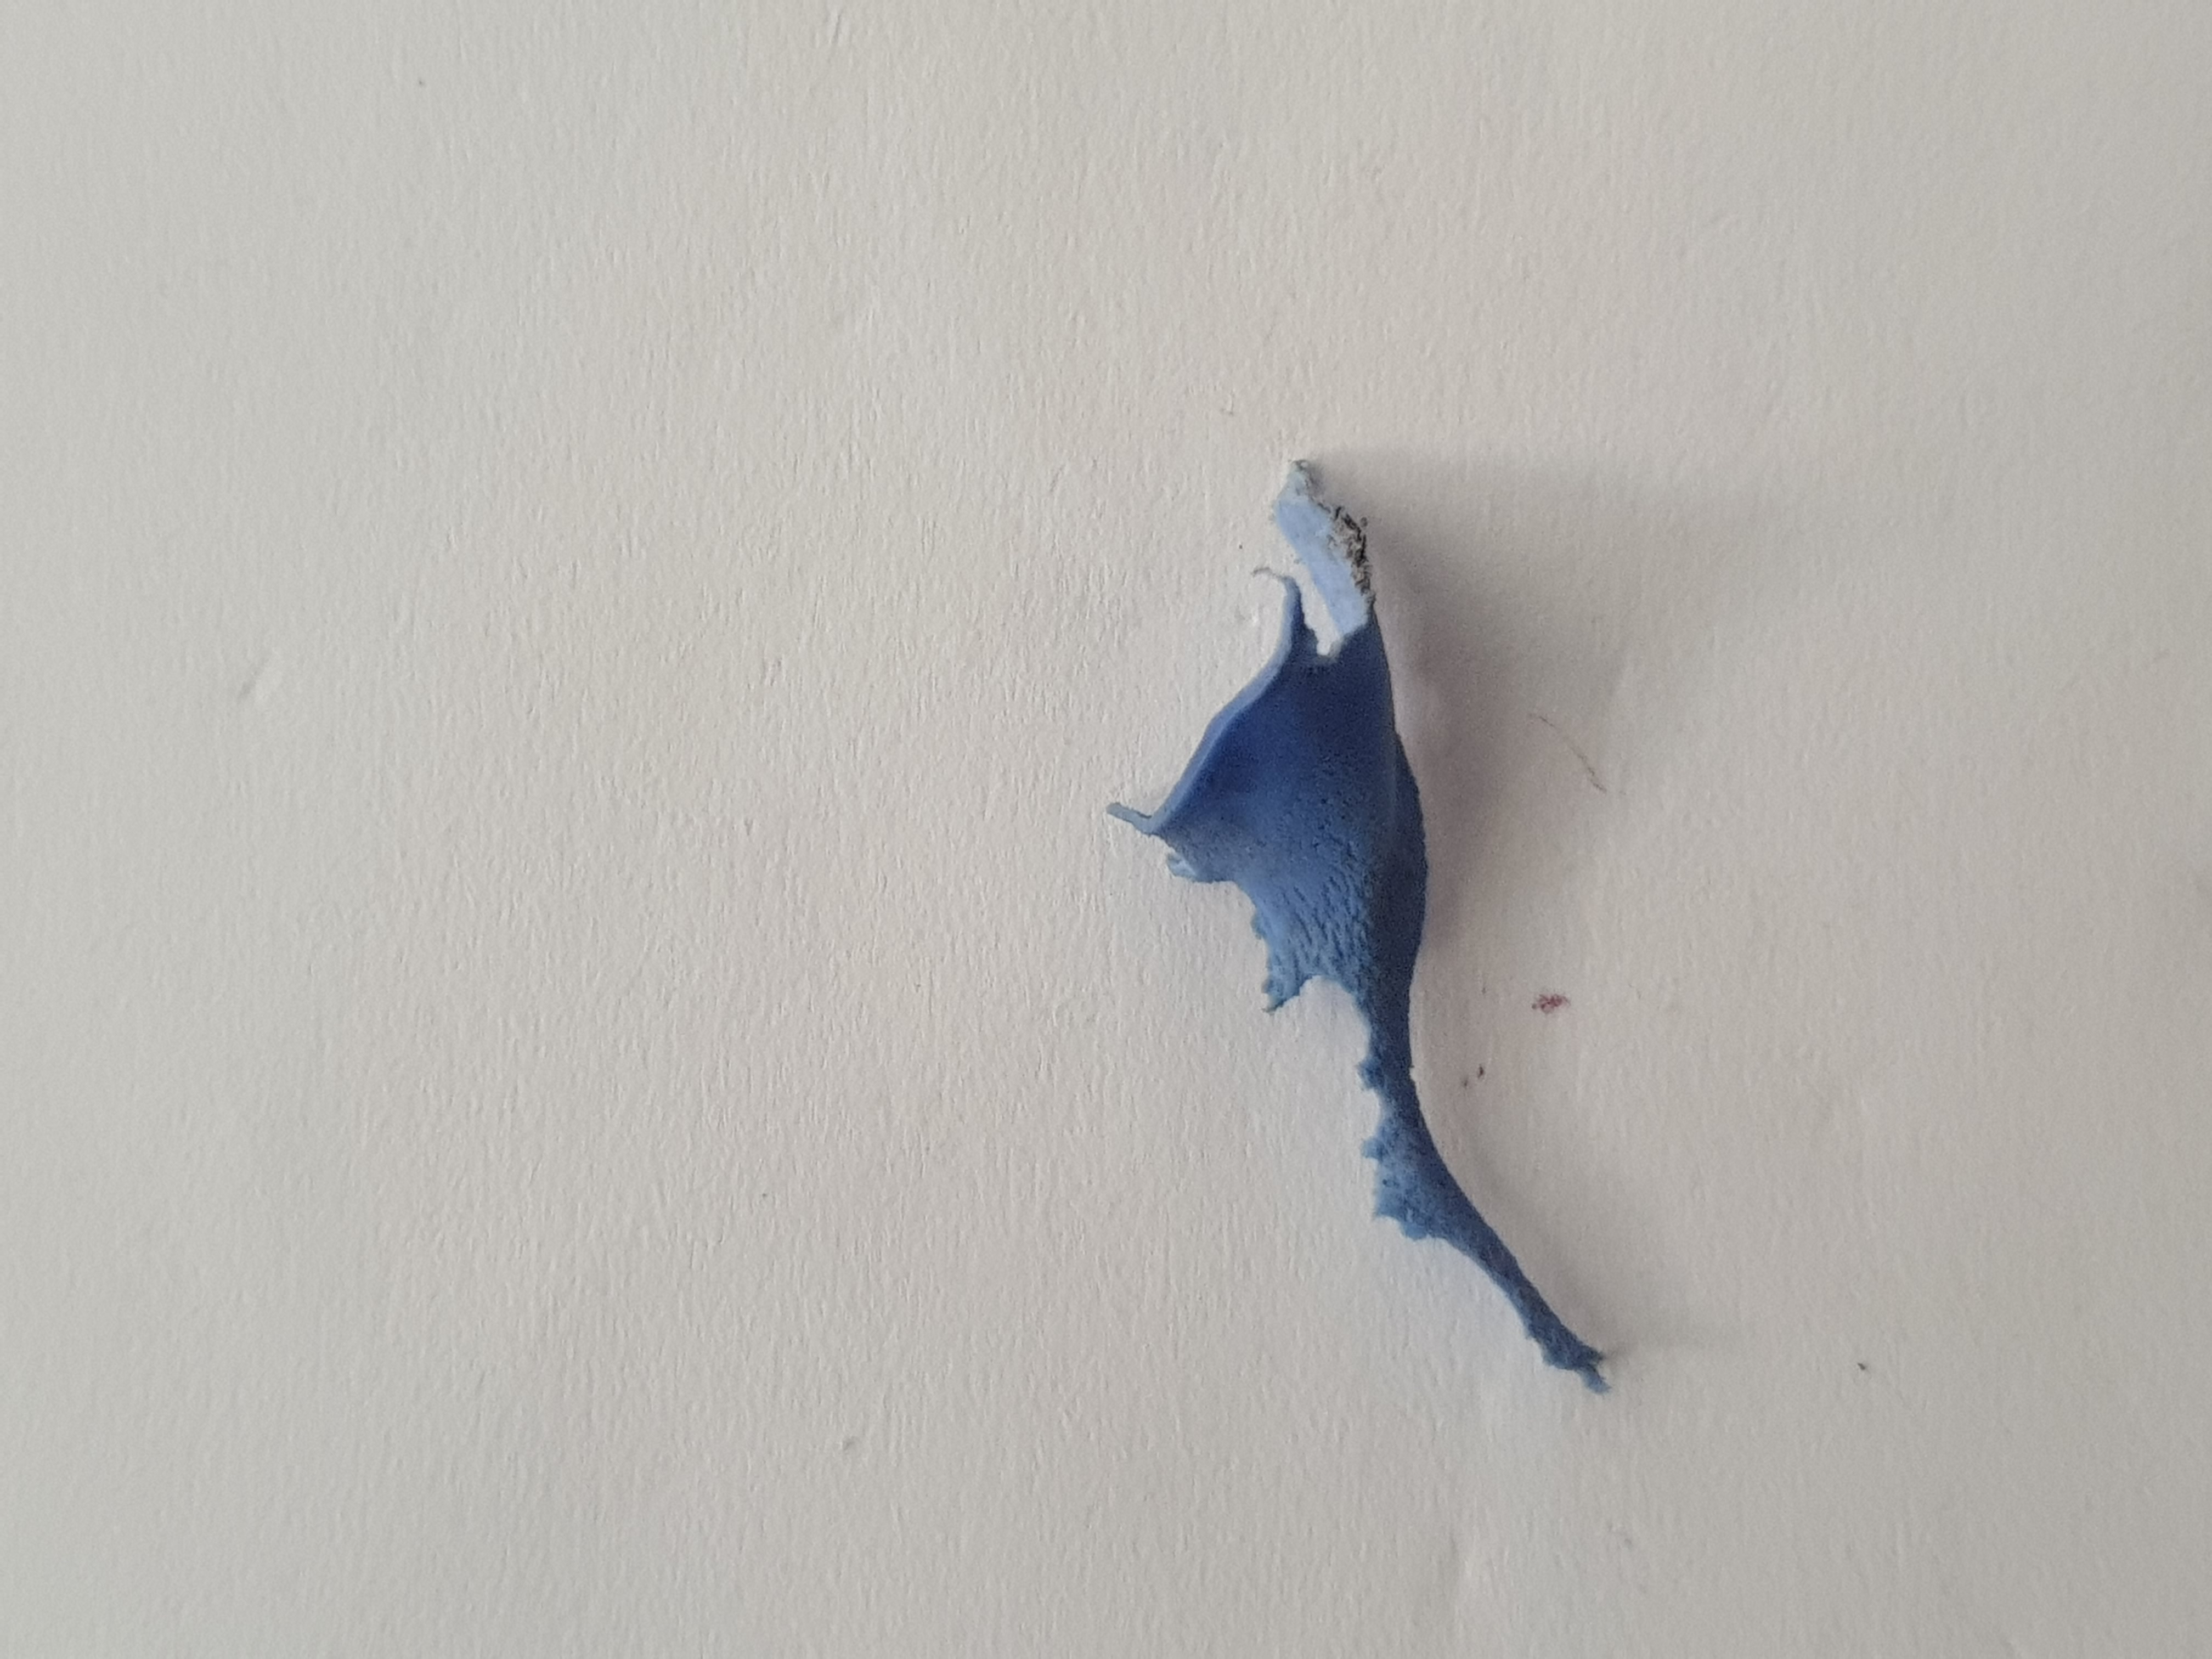plastic: (1054, 422, 1646, 1432)
